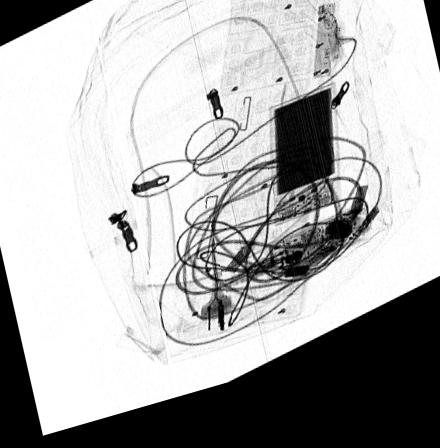Powerbank: (268, 99, 338, 242)
